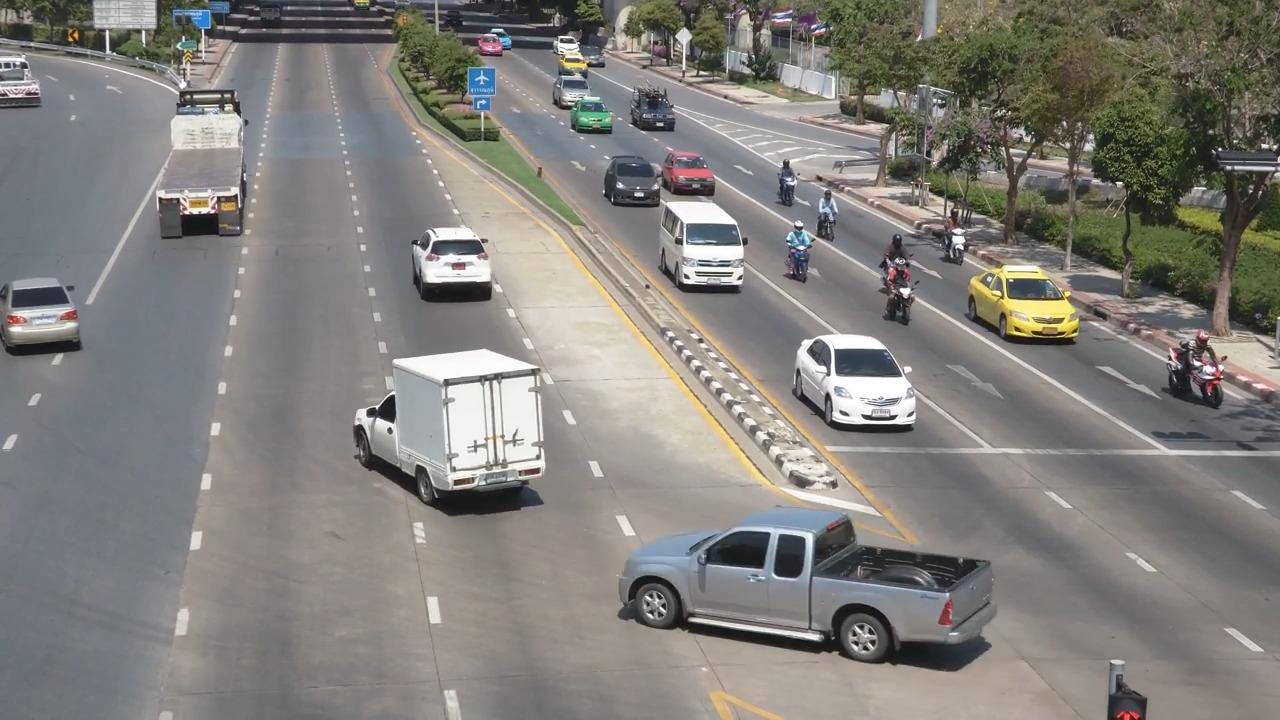CAR: (600, 483, 1006, 685), (349, 340, 569, 521), (794, 317, 922, 434), (956, 257, 1079, 352), (647, 192, 750, 302), (402, 217, 505, 313), (0, 273, 103, 367), (0, 48, 56, 129), (601, 145, 666, 211), (659, 148, 726, 198), (622, 83, 679, 135), (571, 93, 622, 137), (538, 31, 588, 65)
HGV_BUS: (137, 81, 273, 260)
MOTOR: (1152, 317, 1231, 415), (862, 245, 924, 322), (809, 189, 850, 247), (940, 205, 978, 266), (780, 221, 817, 282), (767, 153, 802, 211)
